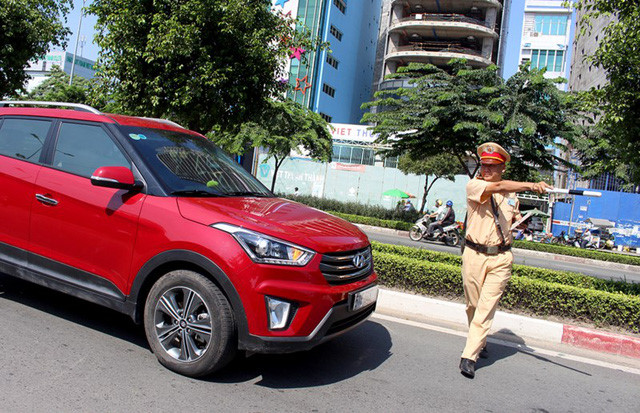police: (443, 135, 601, 389)
